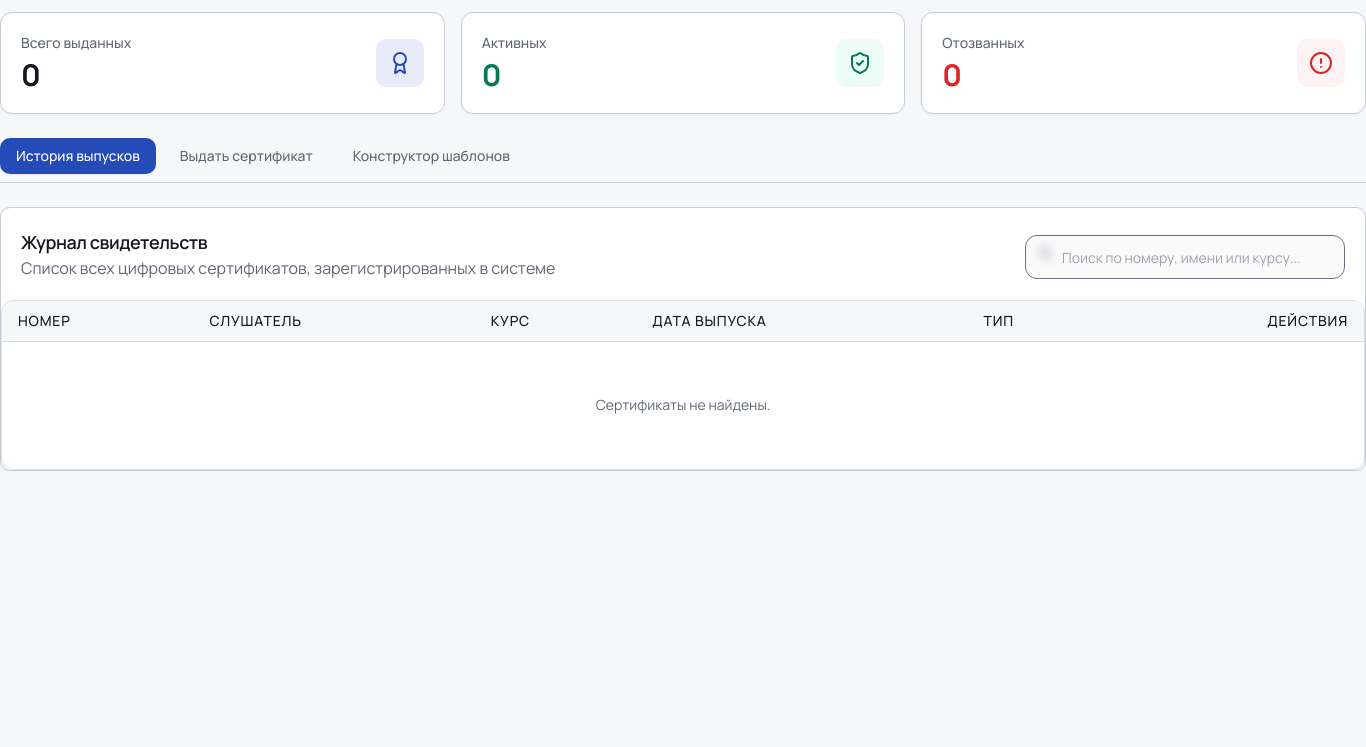
Test case: CertificatesDashboard › does not expose raw network errors while issuing certificates
Click the button "Выдать сертификат": (246, 156) [164,138,329,174]
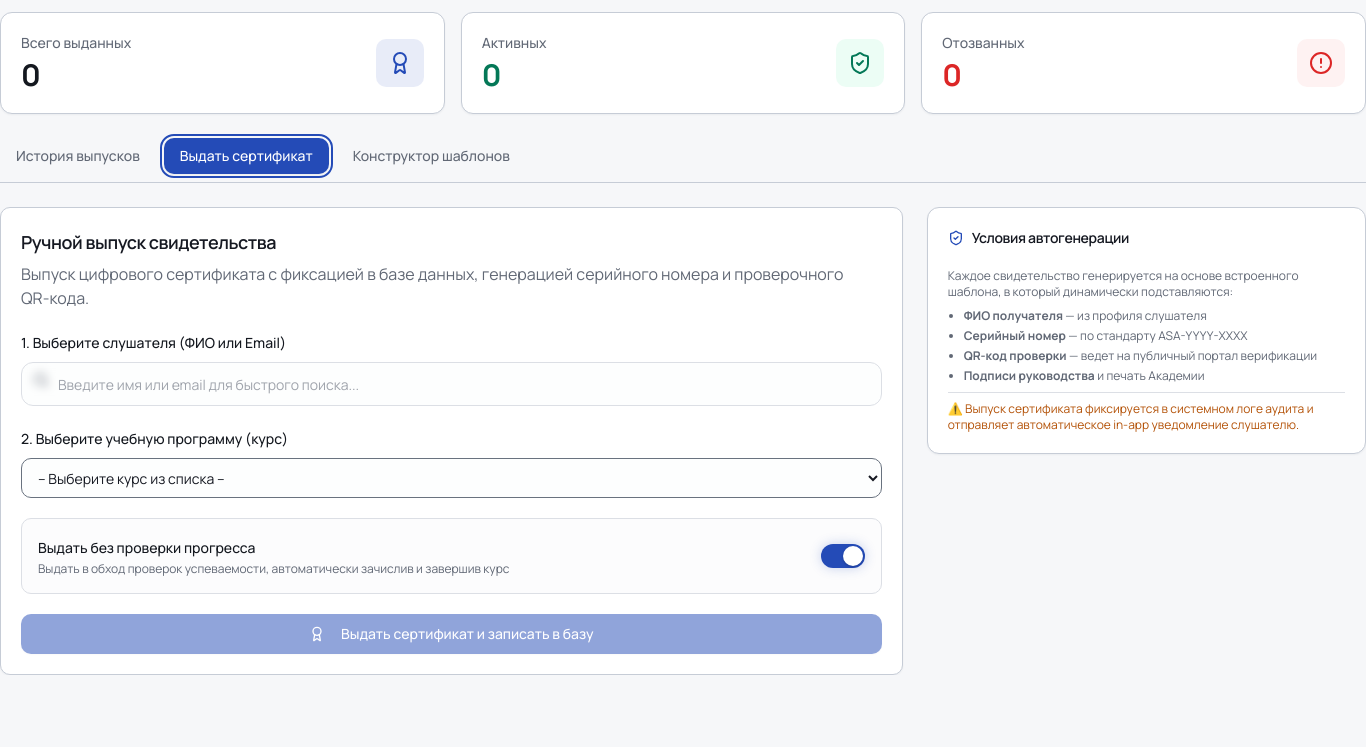
In the field labelled "1. Выберите слушателя (ФИО или Email)": (451, 384) [21,362,882,406], type "Иван"
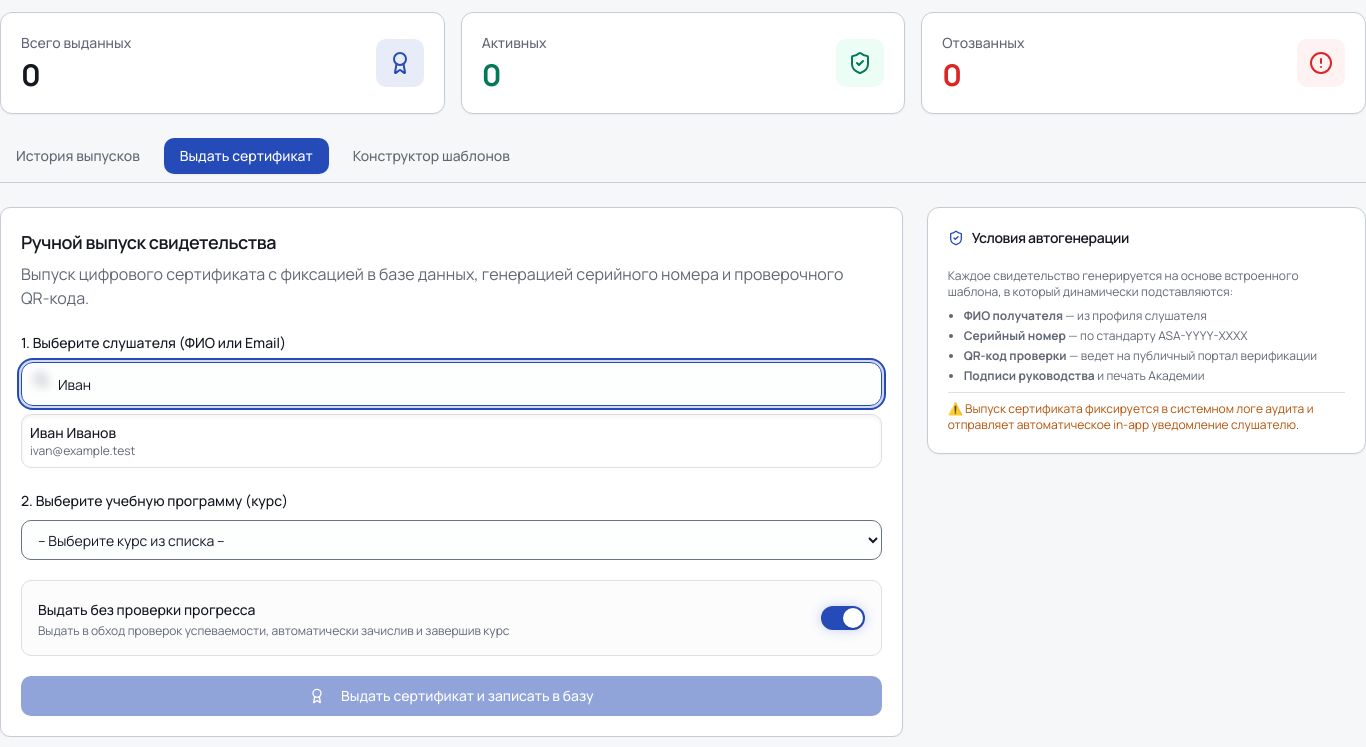
Click the text "Иван Иванов": (73, 432) [30,423,116,442]
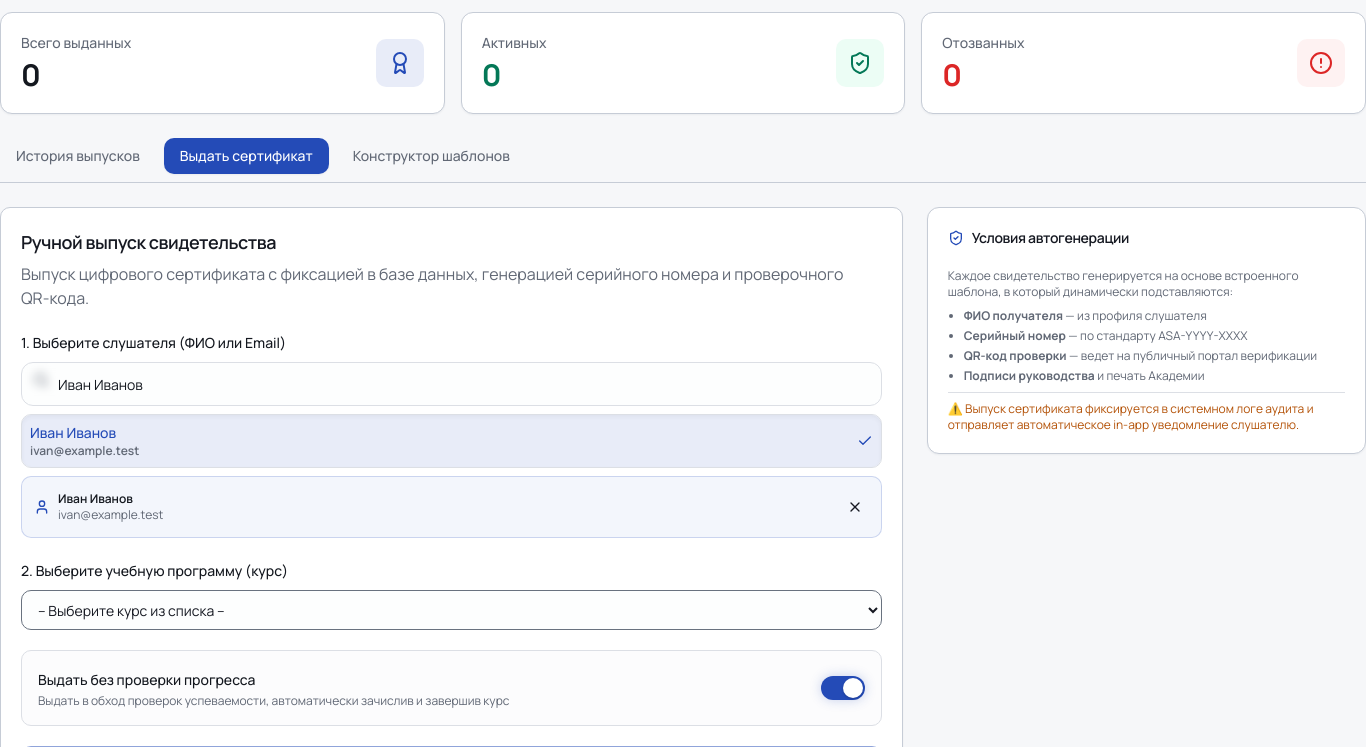
Select "Стратегический курс" in the dropdown labelled "2. Выберите учебную программу (курс)": (451, 610) [21,590,882,630]
(page scrolled)
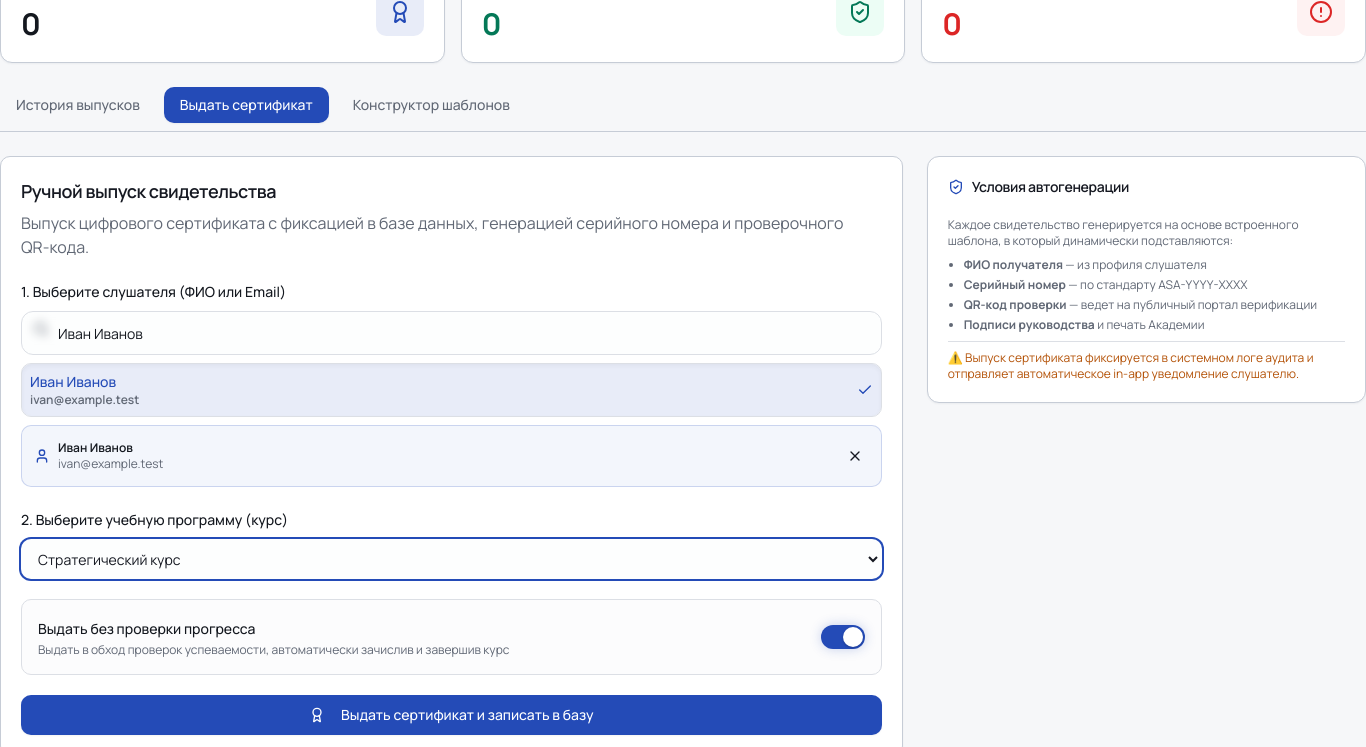
Click the button "Выдать сертификат и записать в базу": (451, 715) [21,695,882,735]
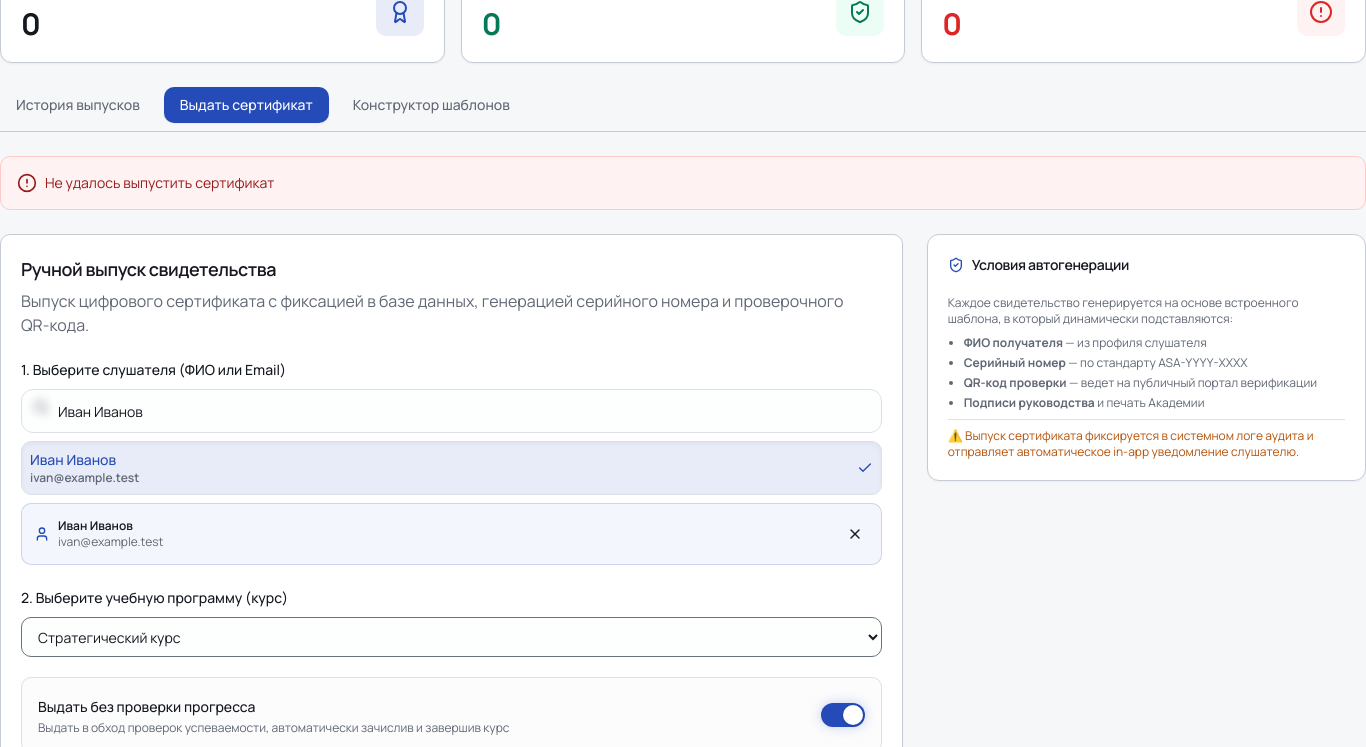
Check: the text "Не удалось выпустить сертификат" is shown, box [45,173,274,193]
